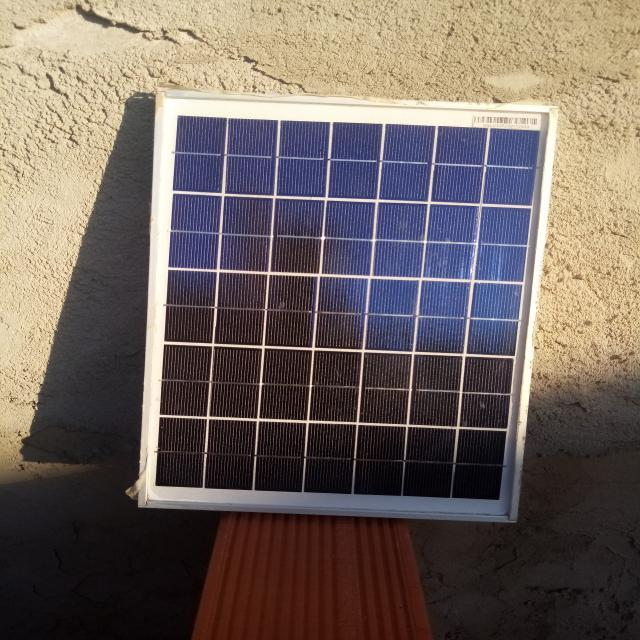no faulty: (146, 95, 558, 525)
